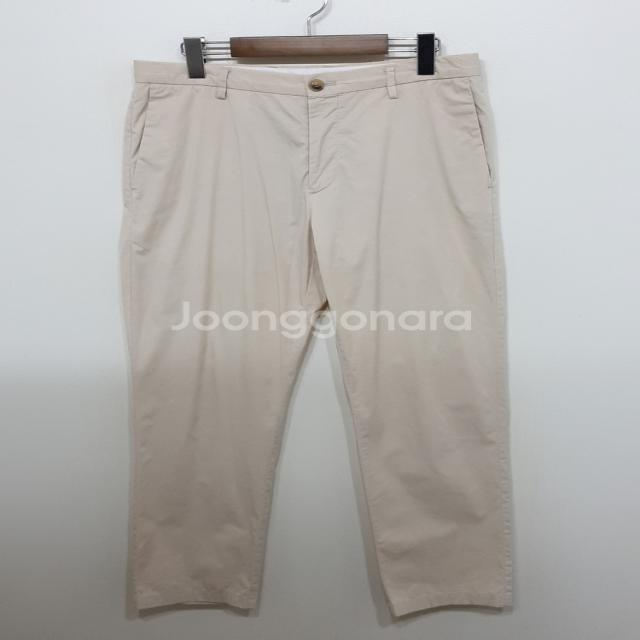long-pants: (122, 56, 521, 620)
